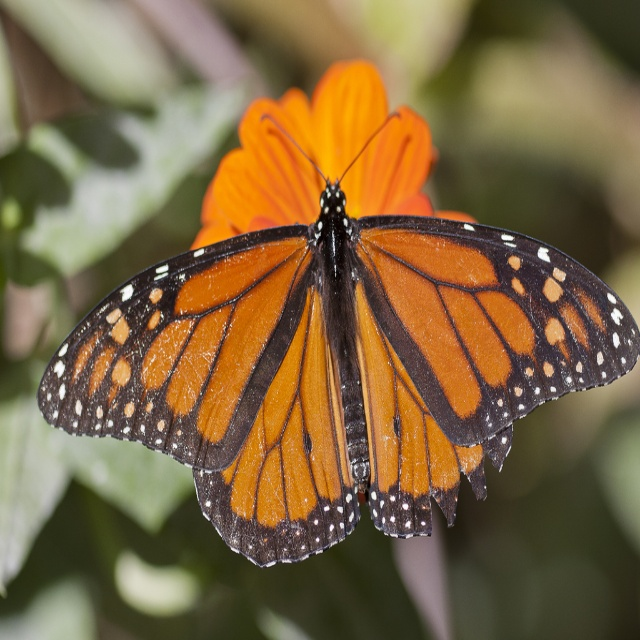Butterfly: (37, 111, 640, 569)
